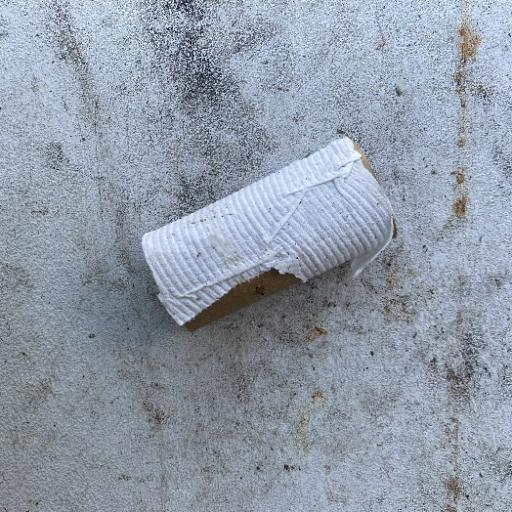Cardboard: (138, 134, 396, 329)
